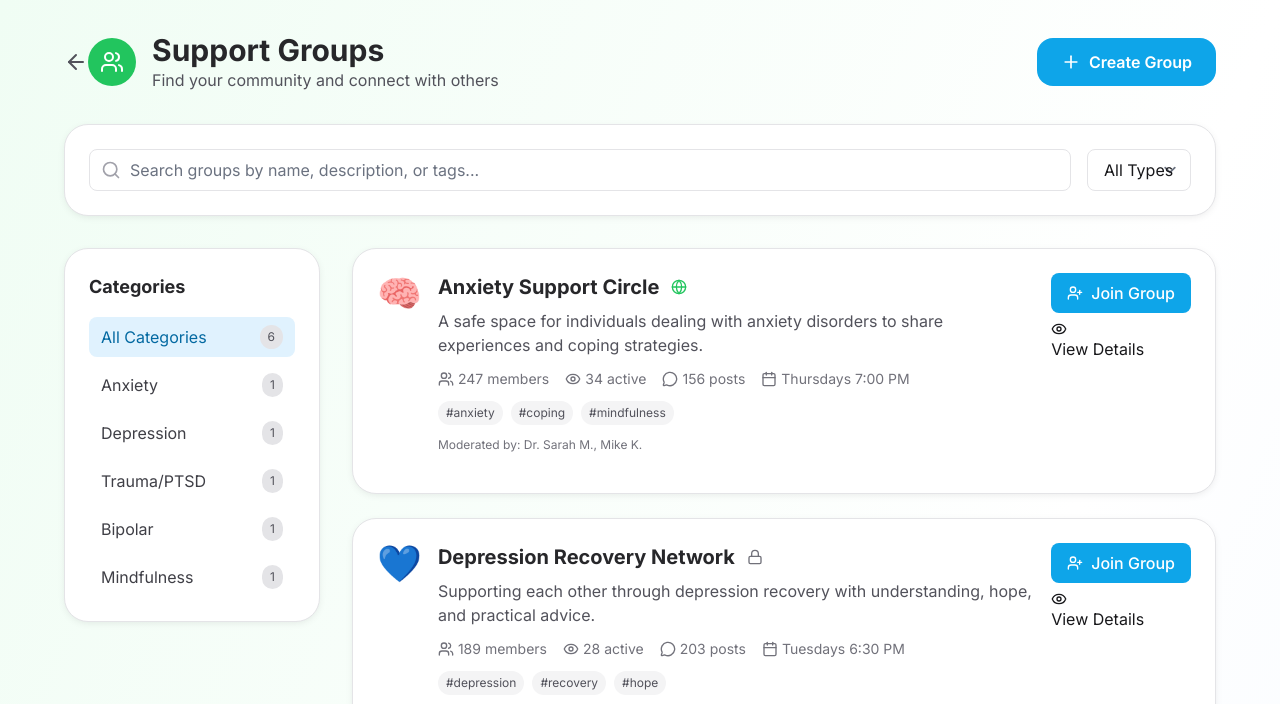
Test: SupportGroupsPage › displays empty state when no groups match filters
The image size is (1280, 704).
Type "nonexistentgroup" into the field with placeholder "Search groups by name, description, or tags..." at coordinates (580, 170), box [89,149,1071,191]
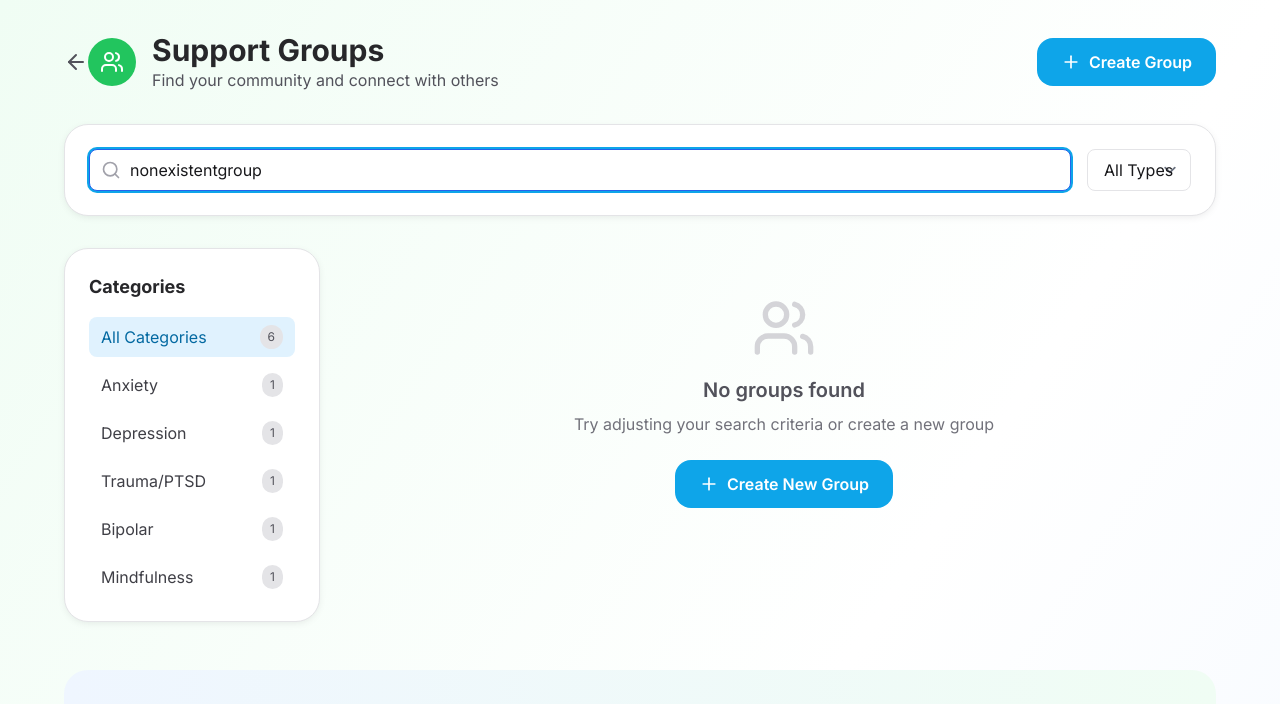
Expected: the heading "No groups found" is shown, [703,378,865,402]
Expected: the text "Try adjusting your search criteria or create a new group" is shown, [574,414,994,434]
